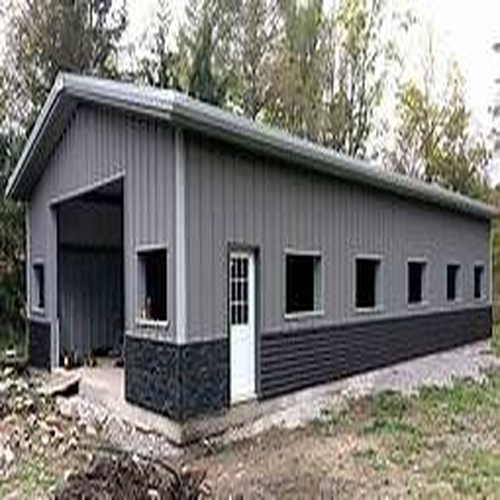Tin-shade House: (7, 64, 492, 382)
